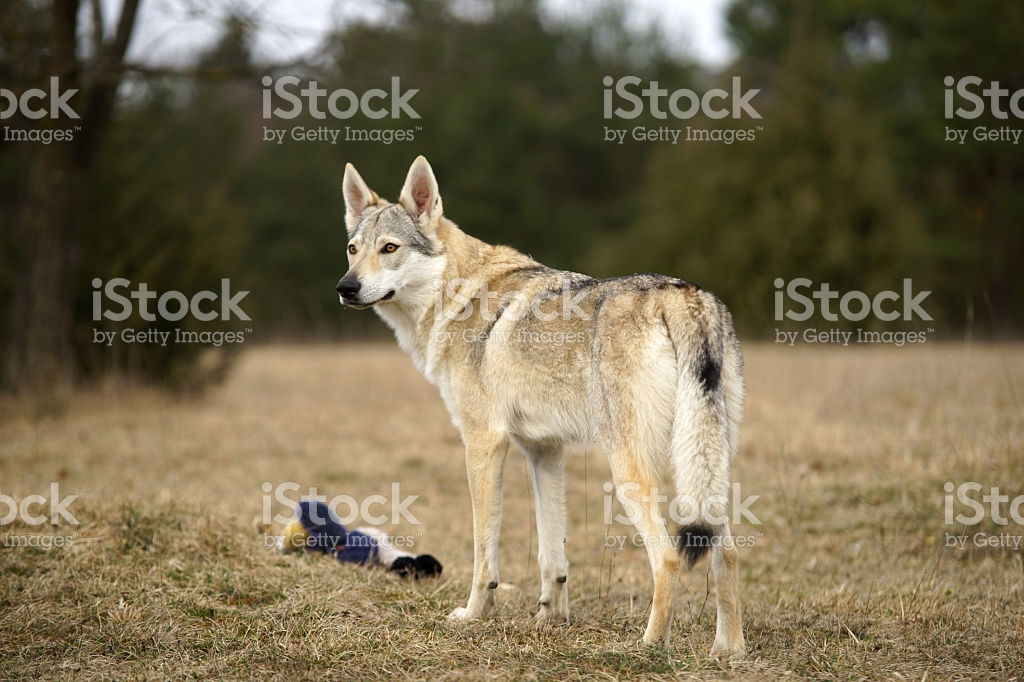wolf: (337, 154, 745, 649)
